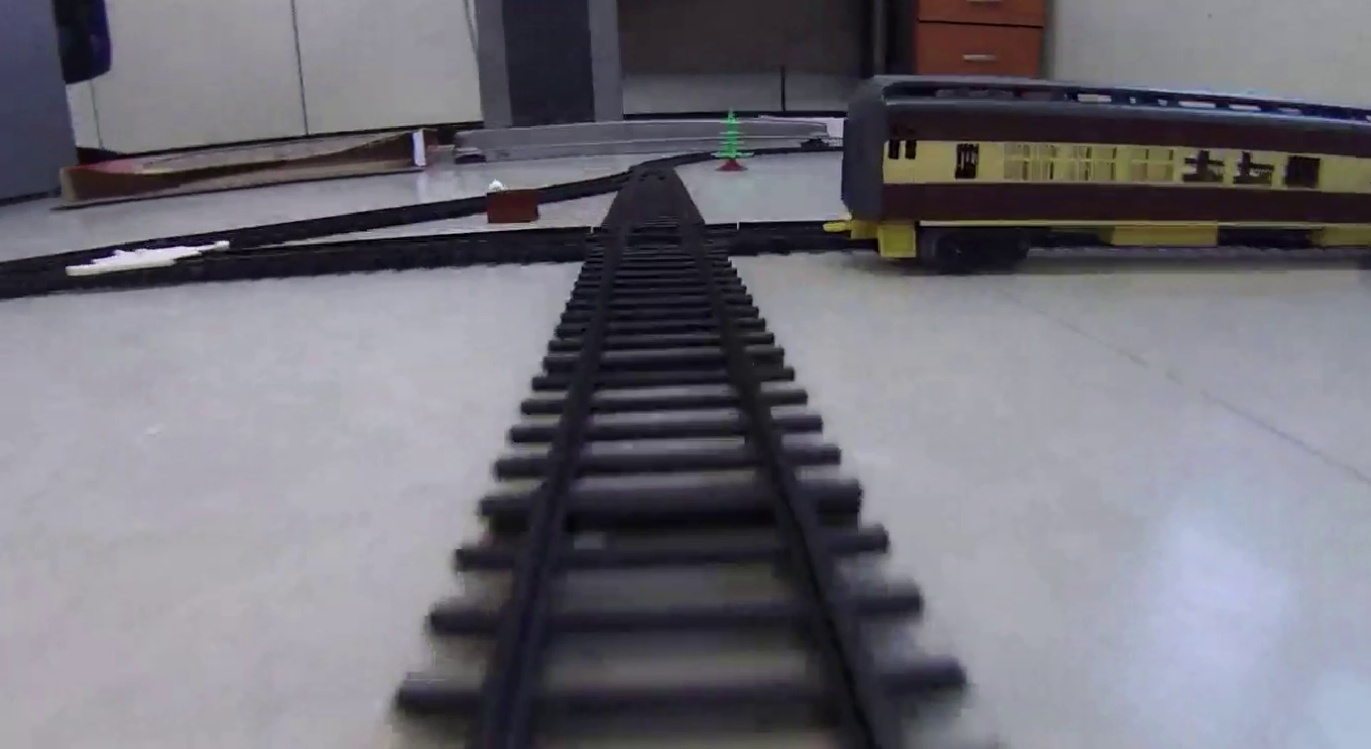box: (488, 189, 540, 222)
tree: (709, 108, 755, 172)
